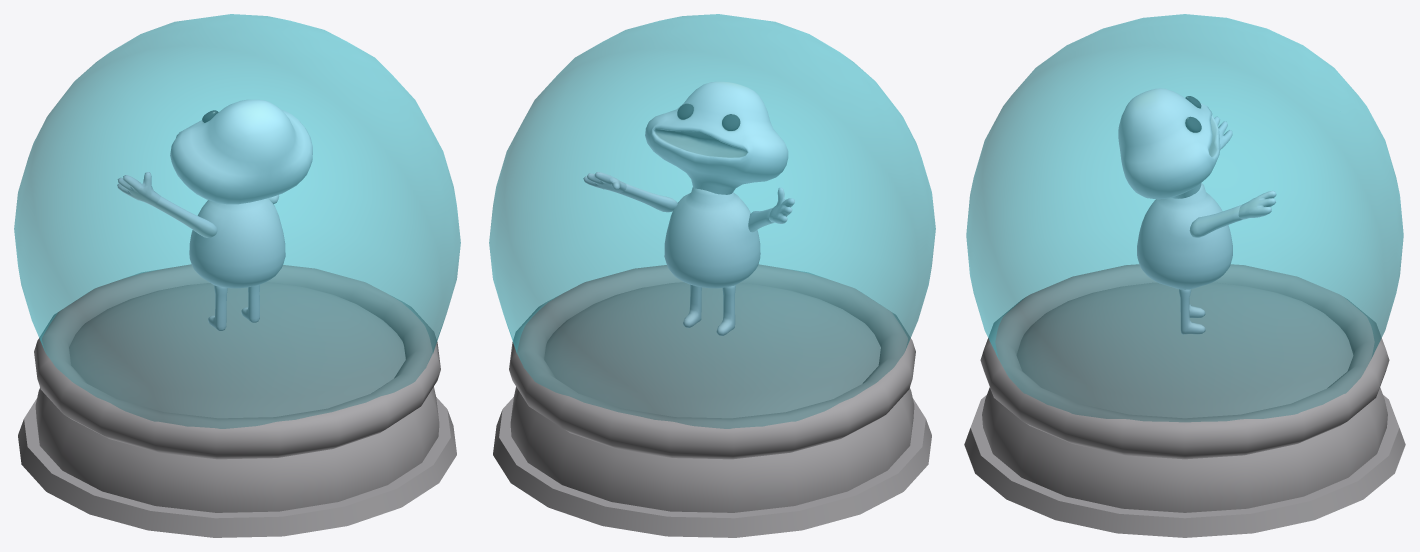
File: RolidayArtifact.obj
The picture shows the model from 3 angles, left to right: view 1: azimuth 30°, elevation 25°; view 2: azimuth 150°, elevation 25°; view 3: azimuth 270°, elevation 25°; orthographic projection.
Visible parts, largest first — view 1: Dome, Base, Head, Body, ArmL, HandL, LegL; view 2: Dome, Base, Head, Body, ArmR, LegL, HandR, LegR, HandL; view 3: Dome, Base, Head, Body, ArmR, HandR, LegR.
Boxes of the visible parts, left/top/right/bottom form: Dome: left=14, top=14, right=460, bottom=428; Base: left=18, top=264, right=456, bottom=537; Head: left=170, top=99, right=312, bottom=204; Body: left=189, top=198, right=285, bottom=288; ArmL: left=153, top=196, right=217, bottom=237; HandL: left=117, top=172, right=160, bottom=205; LegL: left=208, top=285, right=227, bottom=330; Dome: left=489, top=14, right=935, bottom=428; Base: left=493, top=264, right=931, bottom=537; Head: left=645, top=81, right=788, bottom=194; Body: left=664, top=187, right=760, bottom=288; ArmR: left=619, top=184, right=677, bottom=212; LegL: left=716, top=285, right=735, bottom=335; HandR: left=583, top=172, right=626, bottom=193; LegR: left=683, top=284, right=701, bottom=327; HandL: left=769, top=187, right=794, bottom=223; Dome: left=966, top=14, right=1403, bottom=421; Base: left=964, top=264, right=1405, bottom=537; Head: left=1118, top=88, right=1220, bottom=199; Body: left=1137, top=183, right=1232, bottom=289; ArmR: left=1189, top=205, right=1242, bottom=237; HandR: left=1238, top=190, right=1276, bottom=219; LegR: left=1179, top=289, right=1205, bottom=334.
Size of the model in its own units: 0.6122 by 0.6235 by 0.6122.
10 materials, 8 textured.
